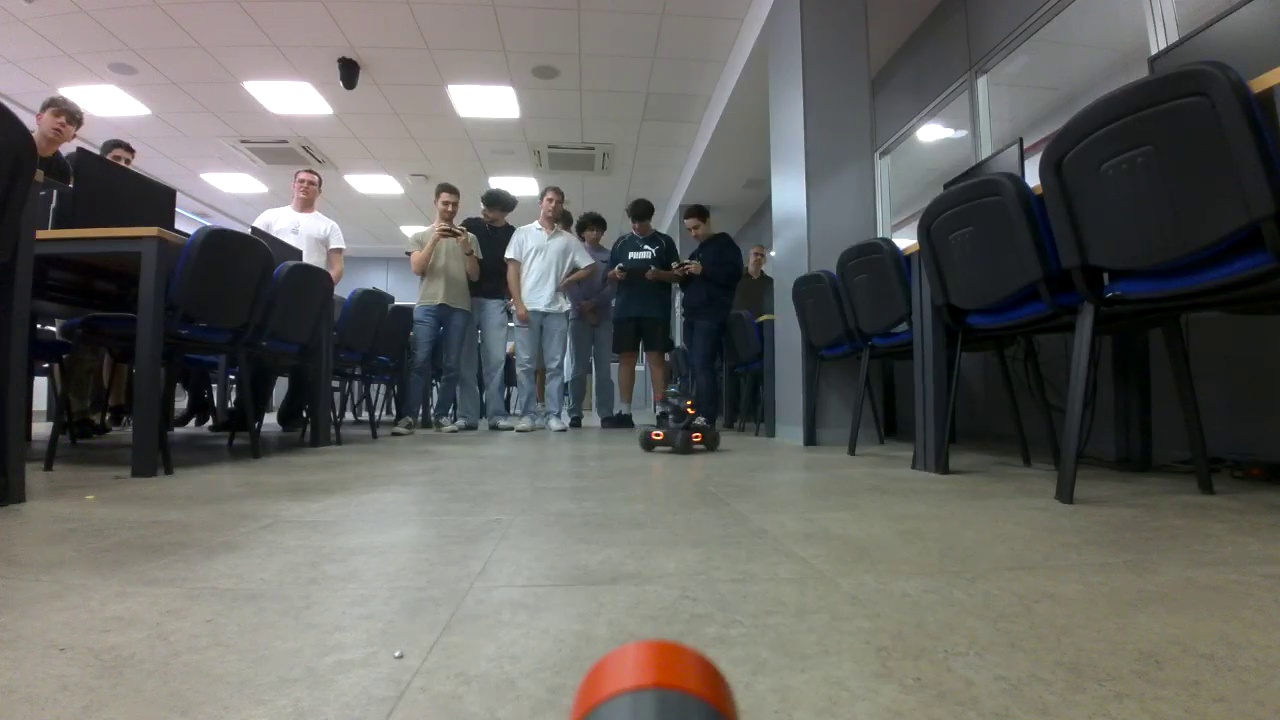robot: (638, 384, 721, 454)
